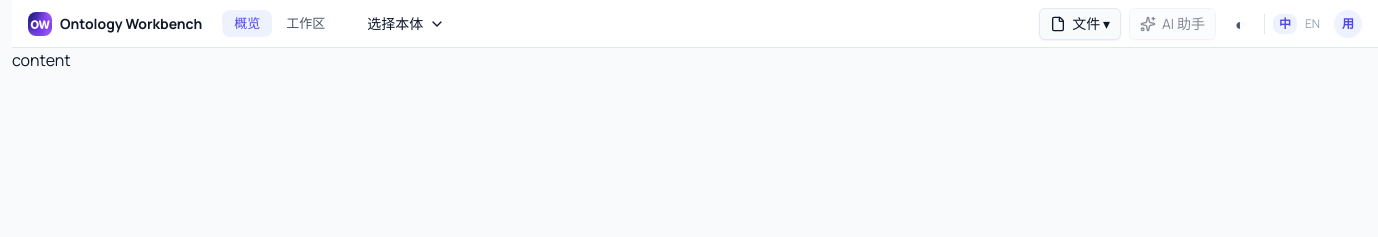
Test: account menu carries the agent-token settings entry
Click the button named "菜单" at (1348, 24), box x1=1334 y1=10 x2=1362 y2=38
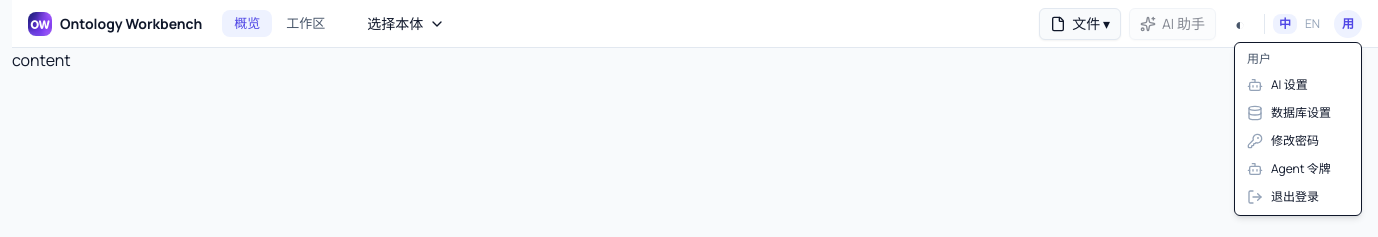
Result: the menu item "Agent 令牌" is shown
Note: Clicking runs the navigate handler and closes the menu.
Click the menu item "Agent 令牌" at (1289, 168), box x1=1247 y1=160 x2=1331 y2=177
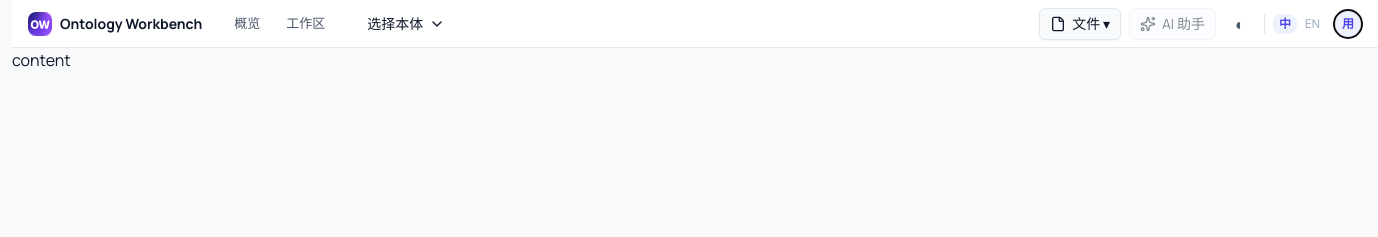
Result: the menu item "退出登录" is gone
